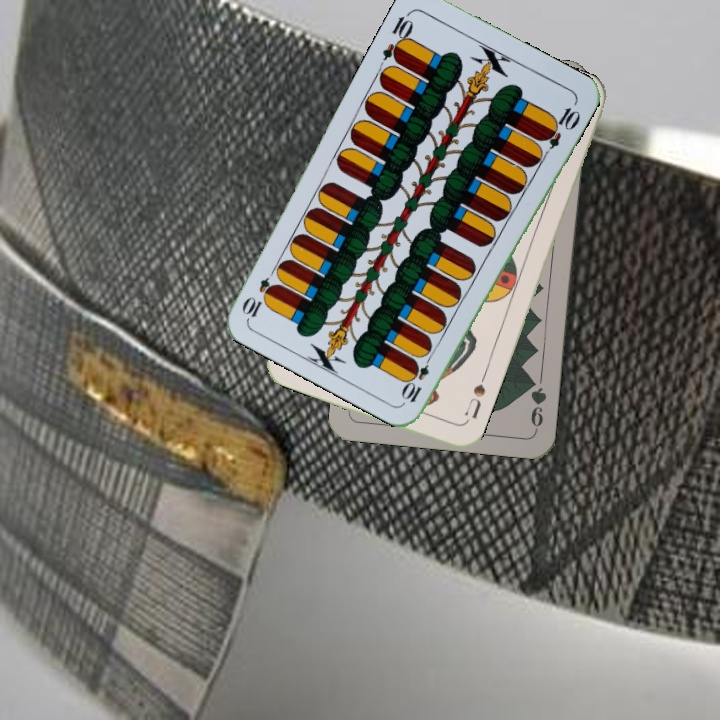E10: (378, 8, 416, 66), (399, 348, 436, 405)
G9: (525, 373, 549, 433)
SU: (460, 380, 488, 422)
